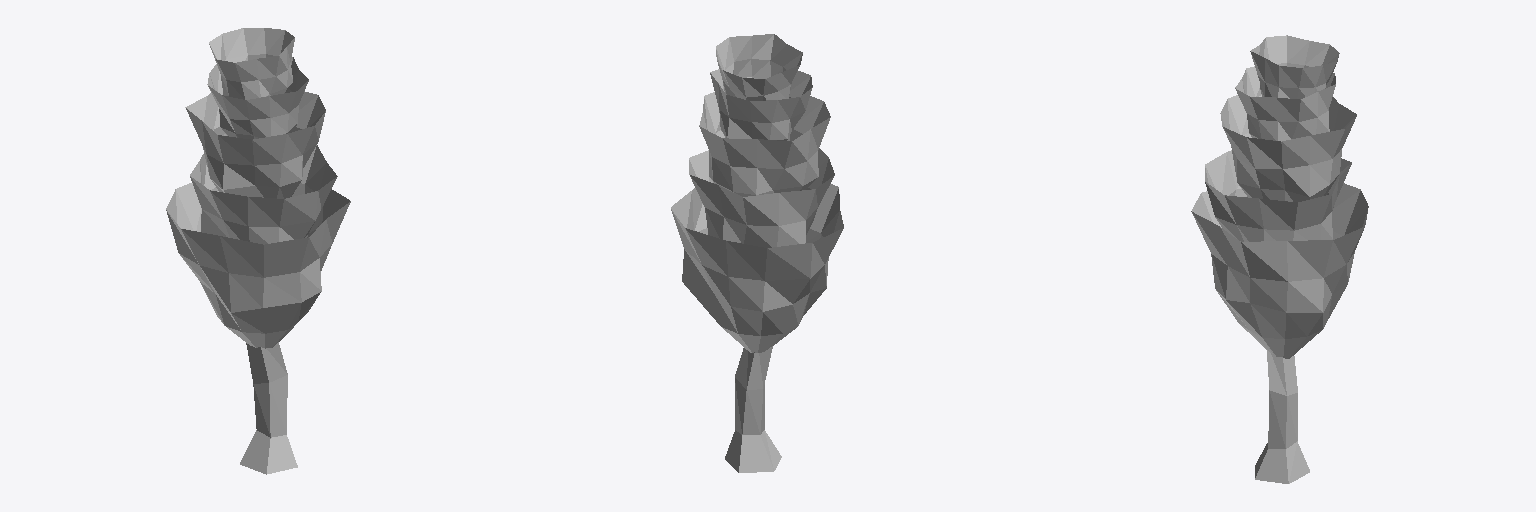
Rendered from tree.obj.
The picture shows the model from 3 angles: view 1: azimuth 30°, elevation 25°; view 2: azimuth 150°, elevation 25°; view 3: azimuth 270°, elevation 25°; orthographic projection.
Visible parts, largest first — view 1: tree:CombinedPolyh000_Untitled, tree:CombinedPolyh001_Untitled.001; view 2: tree:CombinedPolyh000_Untitled, tree:CombinedPolyh001_Untitled.001; view 3: tree:CombinedPolyh000_Untitled, tree:CombinedPolyh001_Untitled.001.
Part boxes in pixels (x1,y1,x2,y2): tree:CombinedPolyh000_Untitled: (166, 28, 350, 348); tree:CombinedPolyh001_Untitled.001: (240, 342, 297, 474); tree:CombinedPolyh000_Untitled: (671, 34, 843, 352); tree:CombinedPolyh001_Untitled.001: (725, 346, 781, 472); tree:CombinedPolyh000_Untitled: (1191, 35, 1368, 358); tree:CombinedPolyh001_Untitled.001: (1255, 350, 1309, 483).
Size of the model in its own units: 2.63 by 6.94 by 2.67.